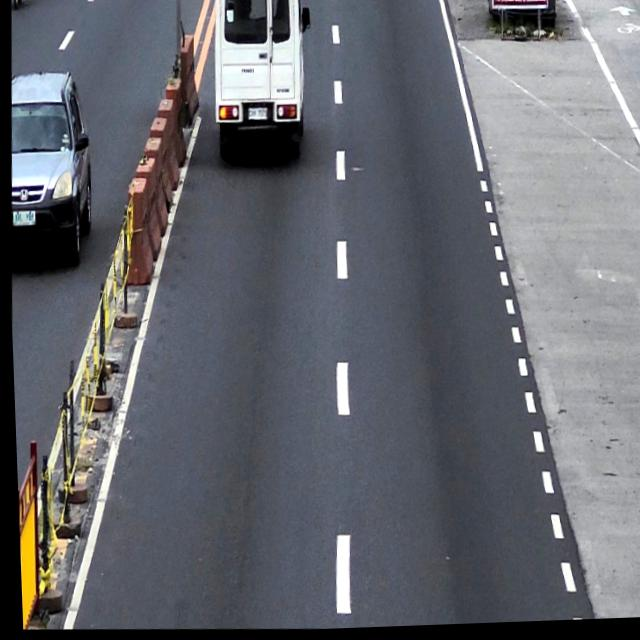Car: (207, 0, 316, 167)
License-Plate: (246, 108, 267, 123)
